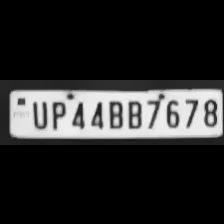4: (68, 97, 86, 129), (88, 97, 104, 129)
6: (162, 96, 180, 128)
7: (143, 96, 161, 128), (180, 95, 198, 127)
8: (200, 95, 218, 127)
B: (124, 96, 142, 128), (106, 97, 124, 128)
P: (48, 98, 66, 128)
U: (28, 97, 48, 128)
